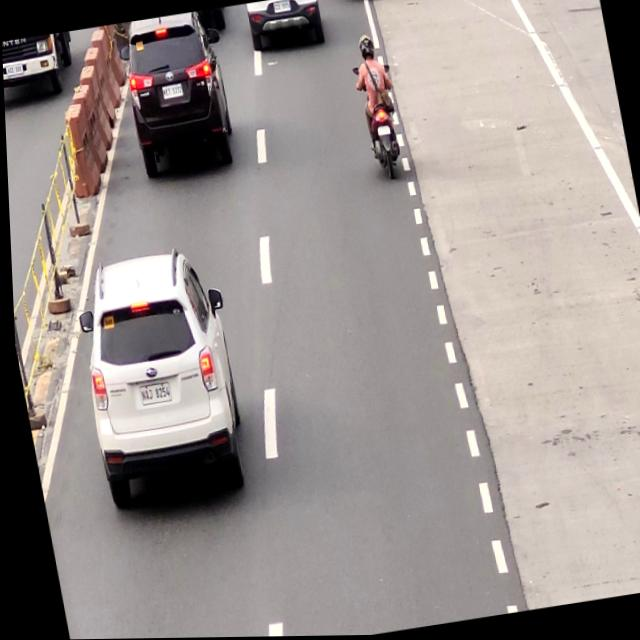Car: (66, 250, 253, 512), (114, 10, 237, 176), (242, 0, 328, 56)
License-Plate: (135, 380, 172, 408), (160, 82, 185, 102), (272, 1, 293, 16), (376, 125, 390, 137)
Motorcycle: (349, 37, 408, 187)
